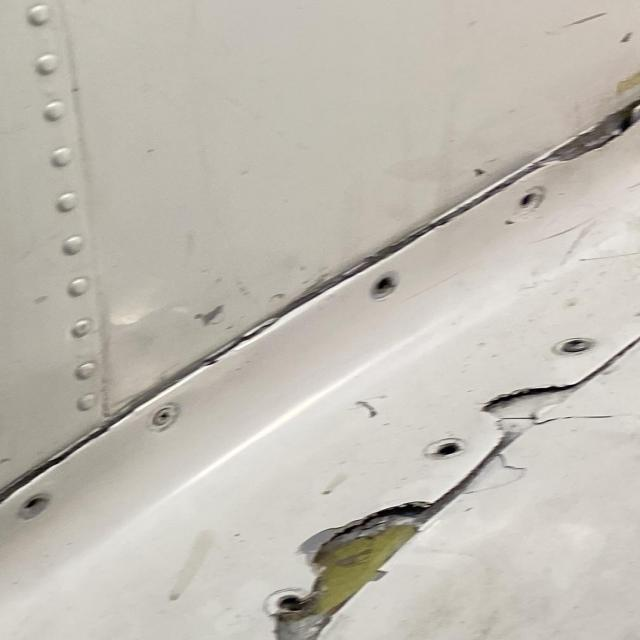Crack: (275, 505, 434, 640), (549, 95, 640, 162), (486, 385, 580, 433), (0, 500, 8, 511)
Missing-head: (514, 186, 544, 216), (17, 494, 51, 520), (371, 273, 401, 299), (427, 439, 464, 459)
Paint-off: (463, 458, 528, 499), (196, 305, 227, 325)
